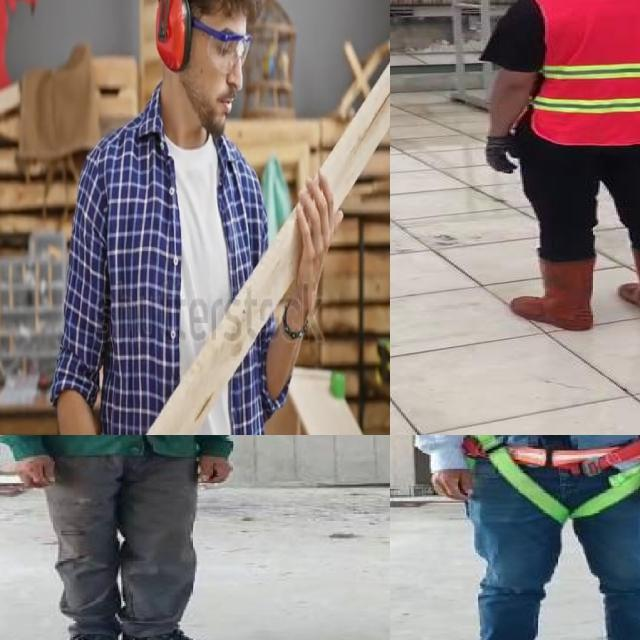Ear-protection: (156, 0, 193, 84)
boots: (507, 256, 594, 333), (616, 243, 640, 321)
glasses: (192, 20, 252, 75)
hand_glove: (479, 136, 524, 176)
hand_noglove: (7, 452, 60, 496), (426, 465, 479, 505), (190, 446, 236, 488)
person: (44, 0, 308, 435), (474, 0, 640, 337), (0, 435, 251, 640), (410, 435, 640, 640)
shoes: (119, 625, 248, 640), (36, 624, 118, 640)
vest: (529, 0, 640, 142)
